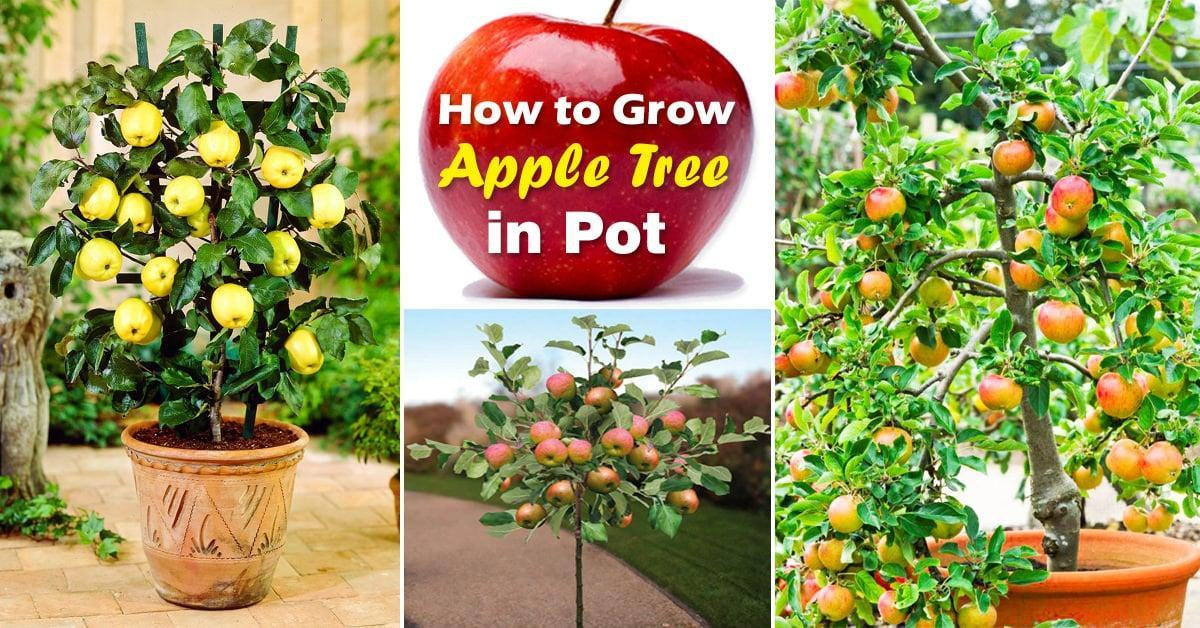apple: (406, 9, 757, 298), (1096, 372, 1147, 420), (1036, 302, 1086, 345), (1051, 174, 1093, 220), (1141, 440, 1182, 484), (908, 327, 949, 369), (978, 375, 1023, 412), (774, 72, 817, 110), (1013, 100, 1056, 137), (828, 495, 865, 535), (1108, 442, 1144, 483), (993, 141, 1034, 177), (864, 187, 906, 222), (1045, 205, 1088, 239), (877, 425, 914, 463), (1100, 222, 1137, 259), (1009, 255, 1049, 289), (818, 586, 856, 621), (919, 276, 954, 311), (545, 474, 581, 506), (879, 589, 910, 623), (586, 465, 621, 495), (788, 342, 820, 374), (533, 437, 567, 467), (603, 426, 637, 456), (859, 271, 891, 302), (546, 372, 580, 401), (585, 384, 619, 413), (668, 484, 700, 514), (790, 447, 819, 480), (879, 534, 907, 568), (958, 603, 997, 627), (819, 538, 848, 570), (516, 501, 545, 528), (532, 419, 561, 446), (487, 439, 516, 466), (567, 437, 596, 464), (1015, 228, 1043, 254), (660, 409, 686, 437), (596, 364, 625, 389), (820, 289, 848, 311), (626, 412, 649, 438)
